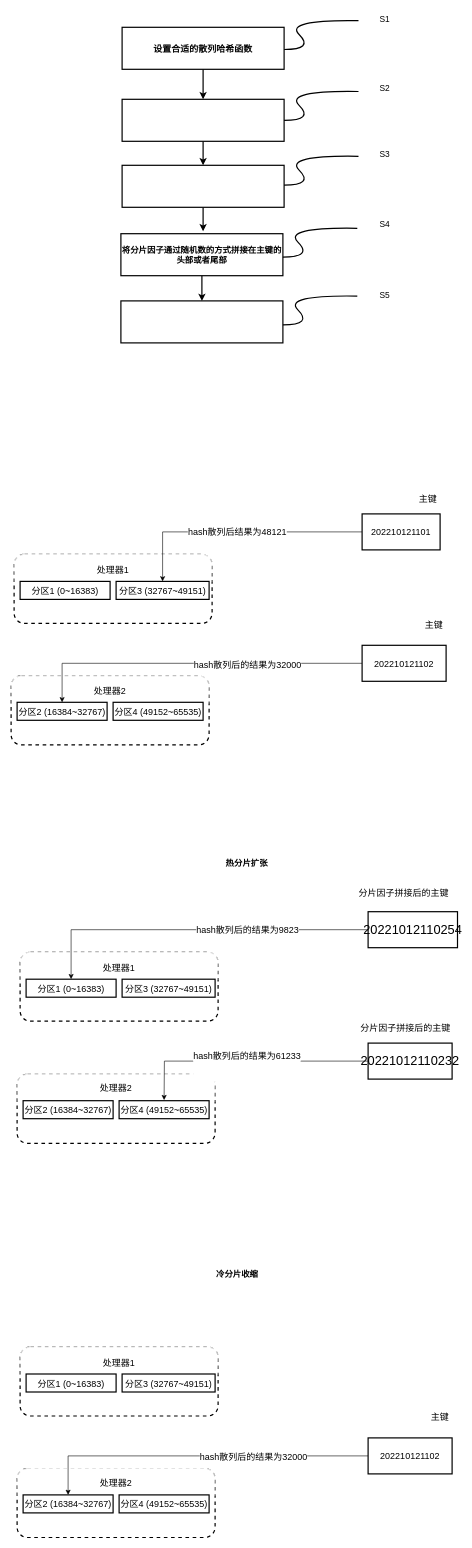
This 472x1548 diagram has some shape labels left out. Each missing label, with the box of its shape:
设定业务需要自动分片的阈值 以及通过流量统计策略确定分片类型 ( 热分片，冷分片 ): (121, 98, 284, 142)
设置动态分片因子: (121, 164, 284, 208)
通过新生成的主键对已存储的数据以及后续读写操作重新进行热冷分片处理: (120, 300, 283, 343)
